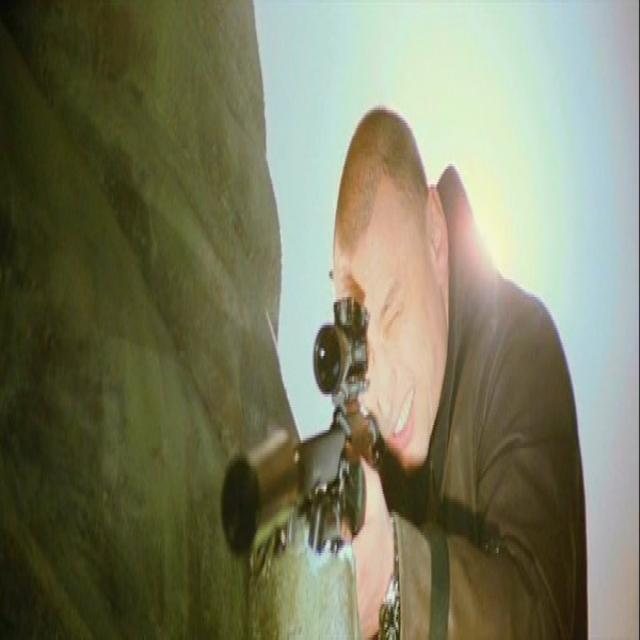rifle: (222, 296, 374, 576)
